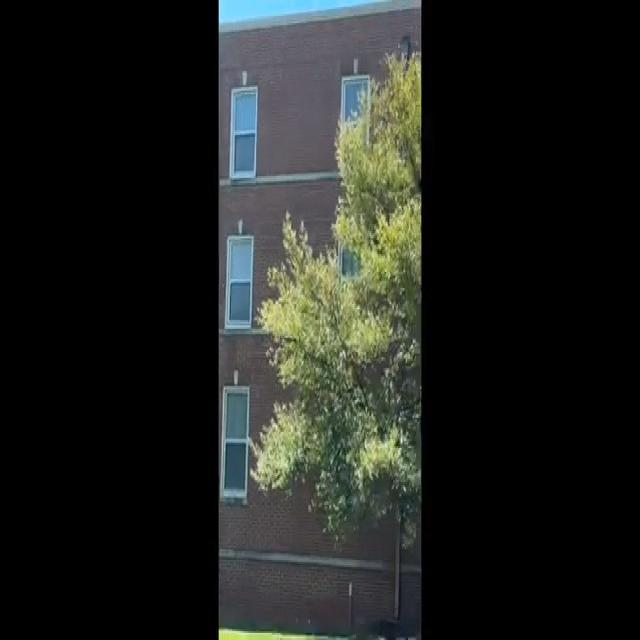drone: (277, 326, 303, 350)
